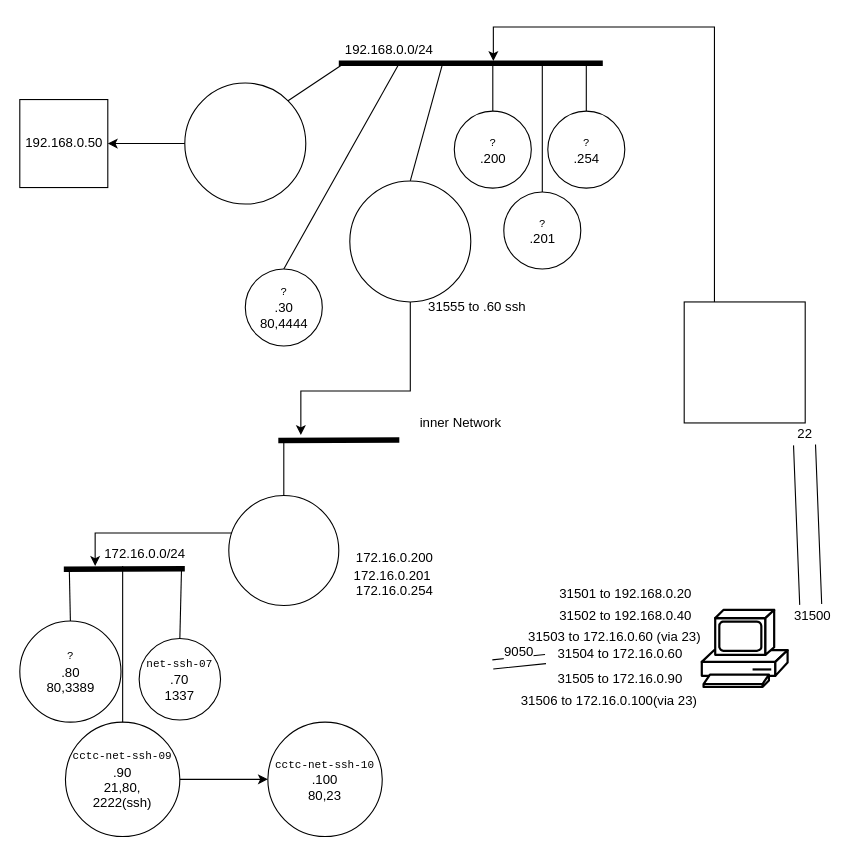
Some shapes in this 858 by 856 pixel diagram are drawn without their labels. The centre of each missing label's shape, as x and y in pixels:
cctc-net-ssh-02 (1st pivot) .20 21,80,3333(ssh): (245,143)
cctc-net-ssh-04 .40 80, 5555(ssh): (410,241)
cctc-net-ssh-06 .60 80,21,23,22: (283,550)
OPS Station 10.50.32.138: (744,648)
T5 cctc-net-ssh-01 float: 10.50.20.200 private: 192.168.0.10/24 23,22,80: (744,362)
